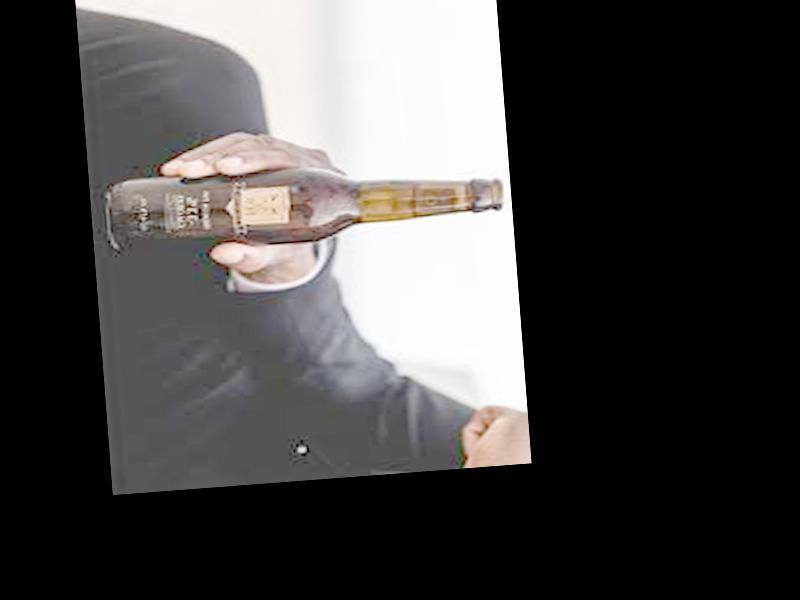Beer: (103, 151, 505, 255)
